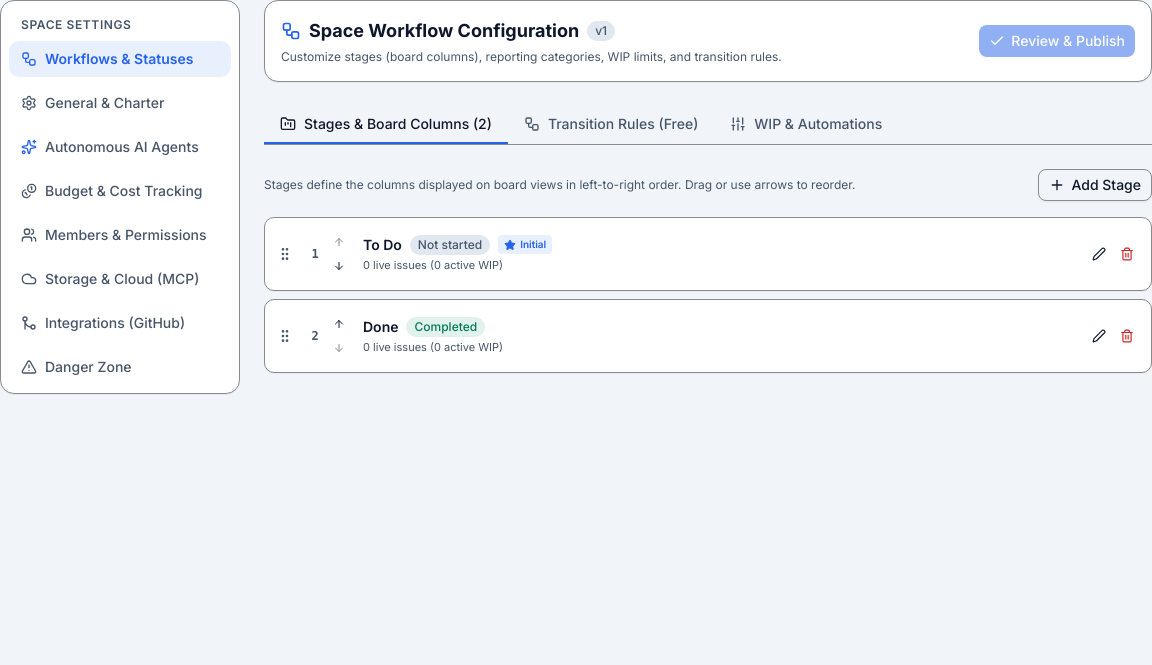
<SpaceSettings> › General & Charter Section › validates key prefix format and shows validation error on invalid input
This screenshot has width=1152, height=665.
Click the button "General & Charter" at (120, 103), box left=9, top=85, right=231, bottom=121
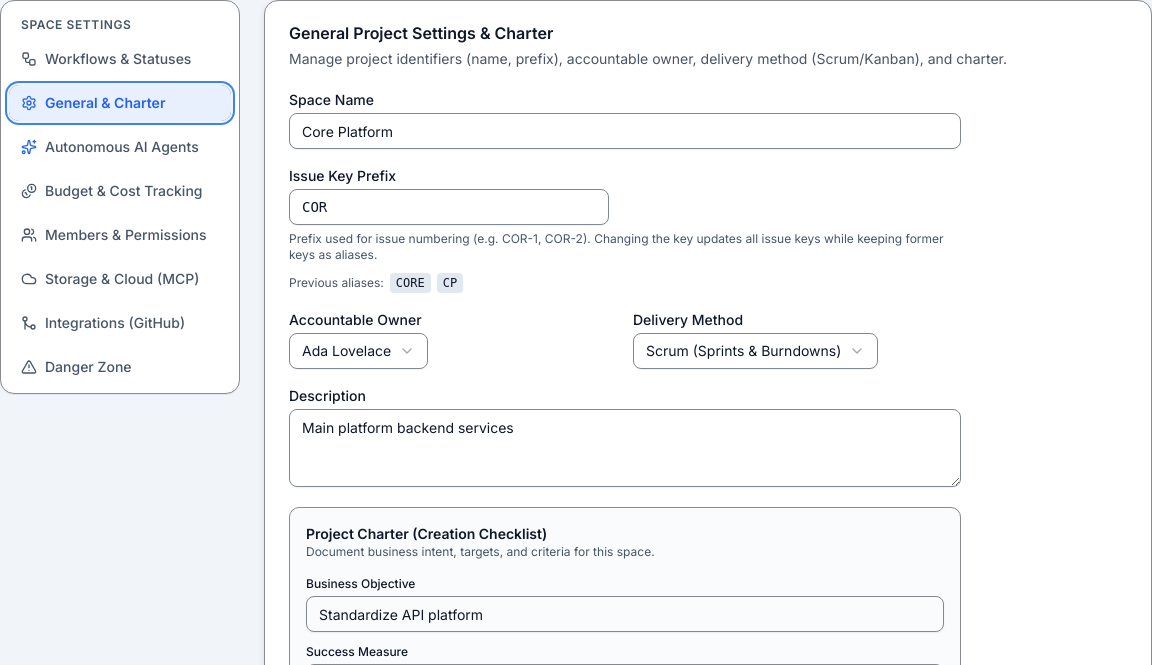
Replace the text in the field labelled "Issue Key Prefix" with "A" at (449, 207), box left=289, top=189, right=609, bottom=225
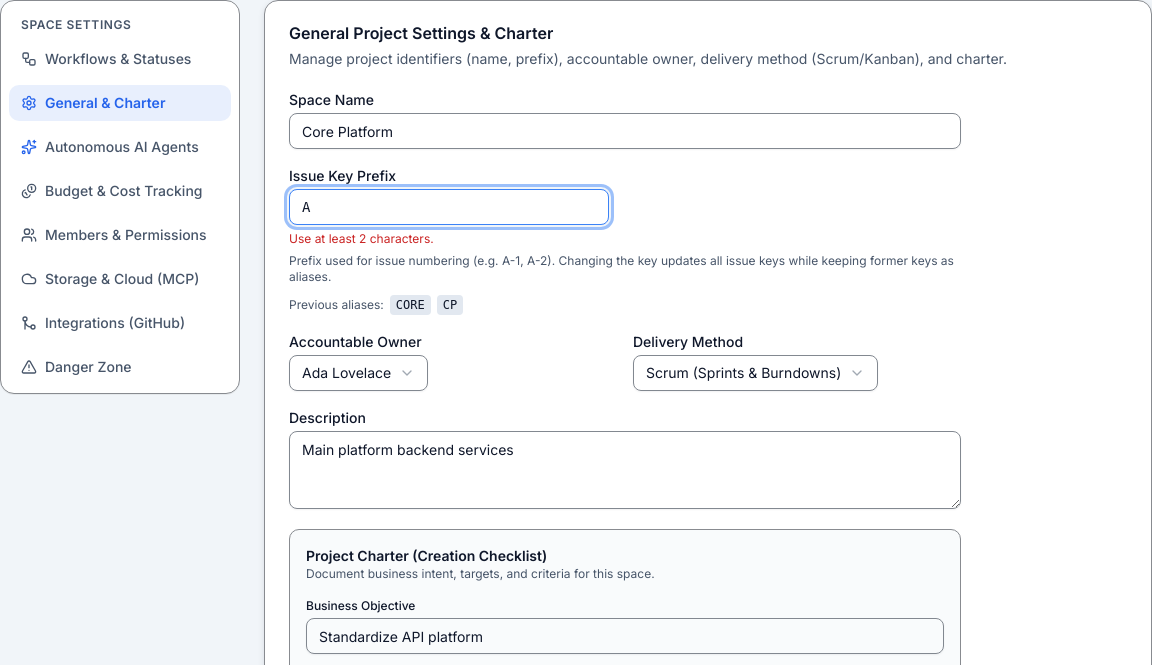
Expected: the text "Use at least 2 characters." is shown, left=289, top=231, right=434, bottom=246
Replace the text in the field labelled "Issue Key Prefix" with "123" at (449, 207), box left=289, top=189, right=609, bottom=225
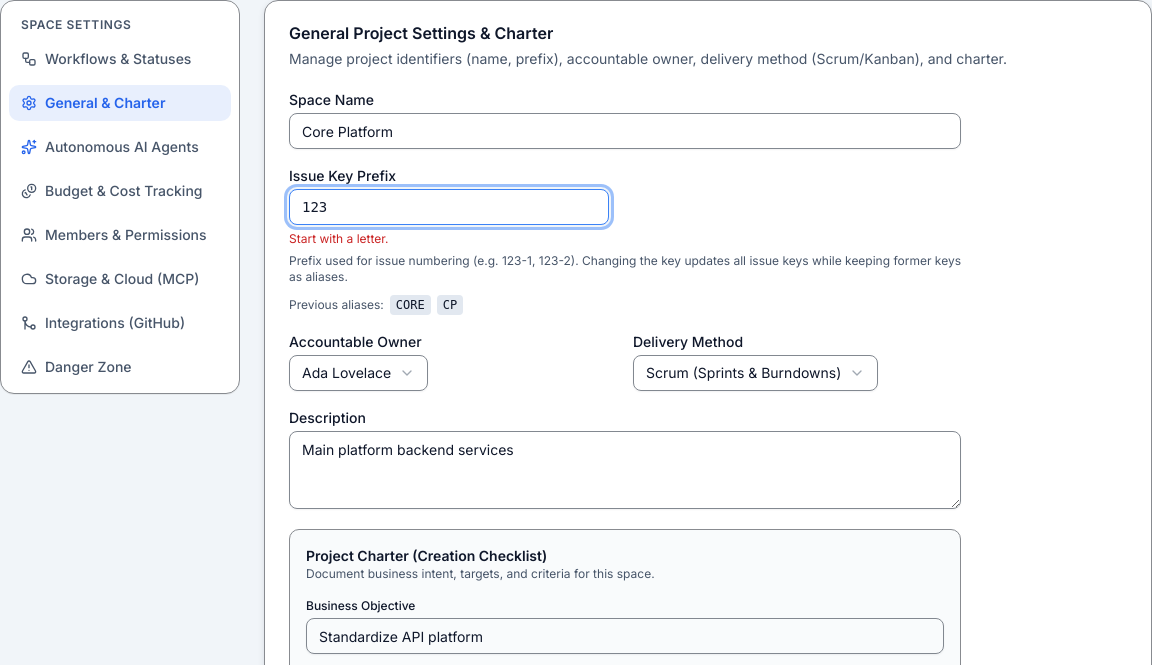
Expected: the text "Start with a letter." is shown, left=289, top=231, right=388, bottom=246
